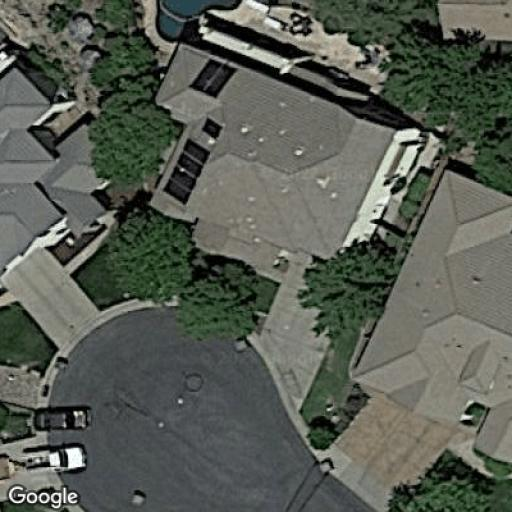solar-panel: (162, 115, 224, 206), (186, 58, 236, 99)
